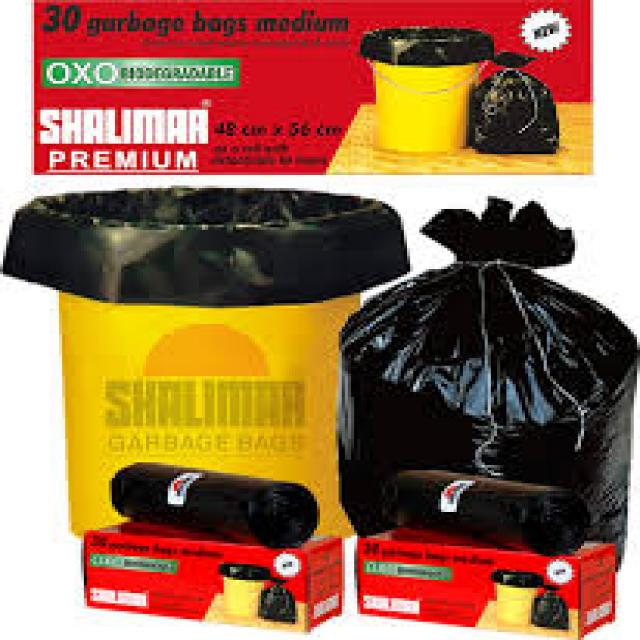heap: (467, 48, 560, 158)
plastic_bag: (346, 221, 638, 550)
